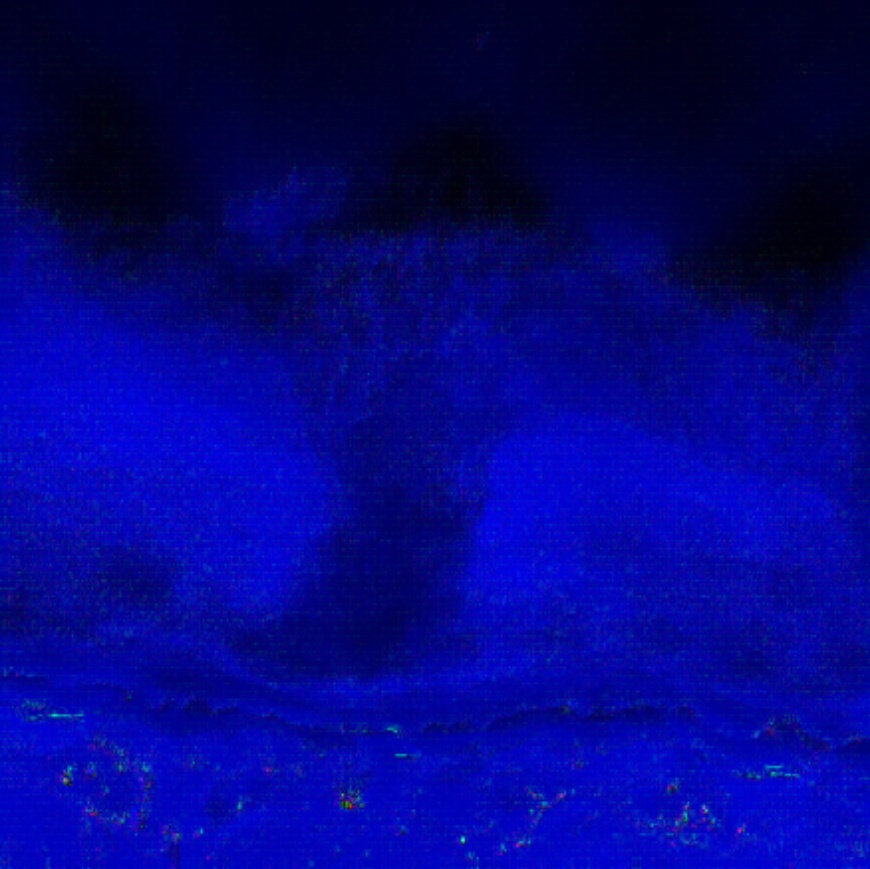rip_current: (199, 124, 556, 666)
